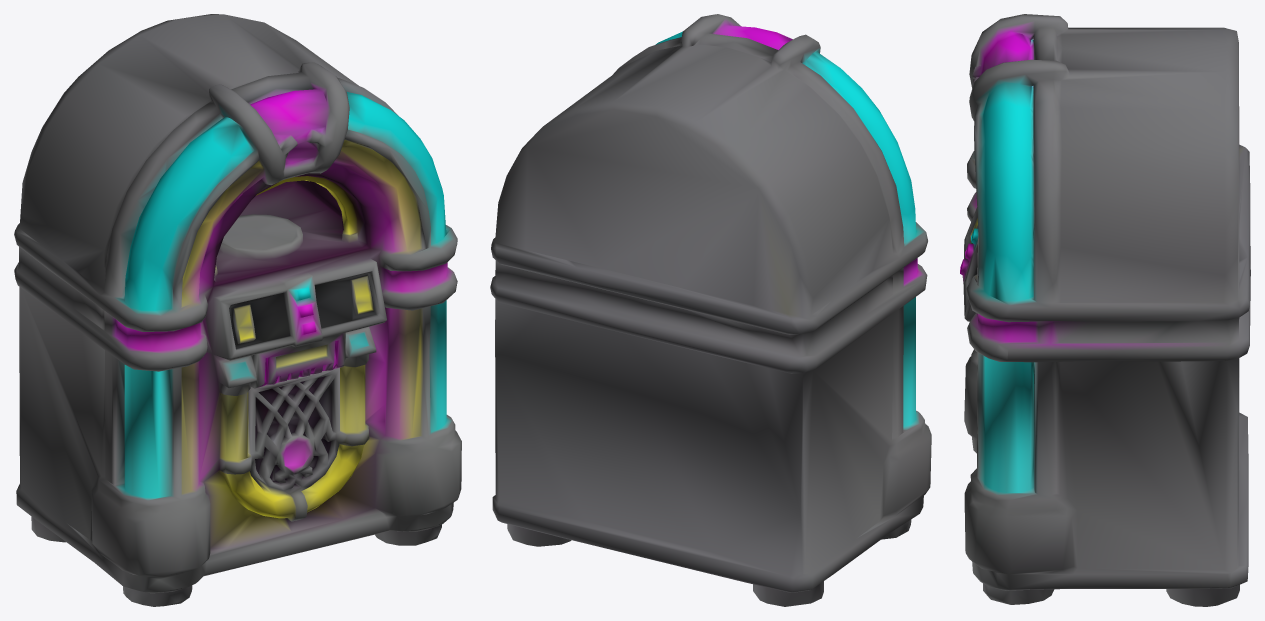
Rendered from meshy-jukebox.glb.
The picture shows the model from 3 angles, left to right: view 1: azimuth 30°, elevation 25°; view 2: azimuth 150°, elevation 25°; view 3: azimuth 270°, elevation 25°; orthographic projection. The views are drawn at different scales.
Visible parts, largest first — view 1: Mesh_0; view 2: Mesh_0; view 3: Mesh_0.
Part boxes in pixels (x1=…): Mesh_0: x1=14, y1=14, x2=461, y2=606; Mesh_0: x1=490, y1=14, x2=931, y2=606; Mesh_0: x1=960, y1=14, x2=1250, y2=606.
Bounding box in the file's own units: 1.42 × 1.9 × 1.02.
